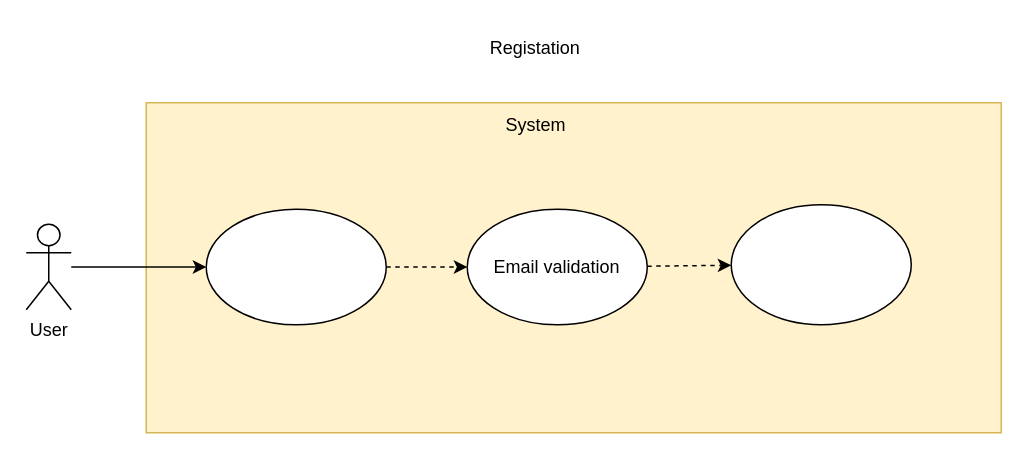
This 1028x459 diagram has some shape labels left out. The centre of each missing label's shape, as x and y in pixels:
"Complete the registration form" belongs at pixel 295 266.
"Log in" belongs at pixel 820 264.
